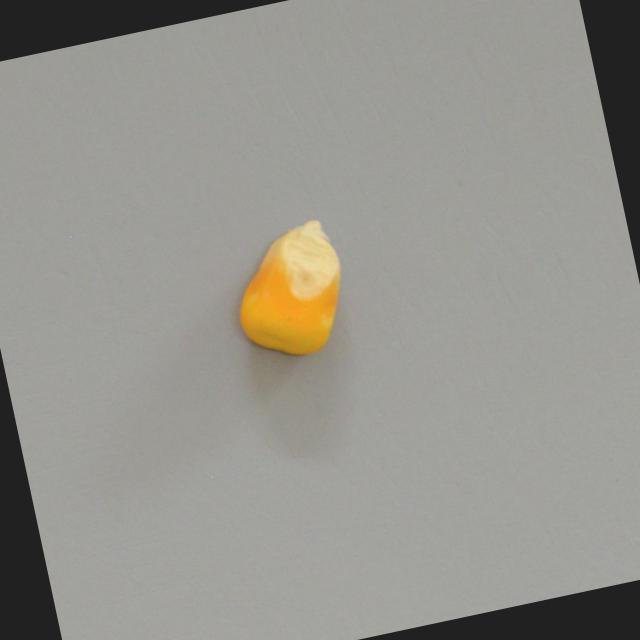entero: (205, 204, 372, 378)
